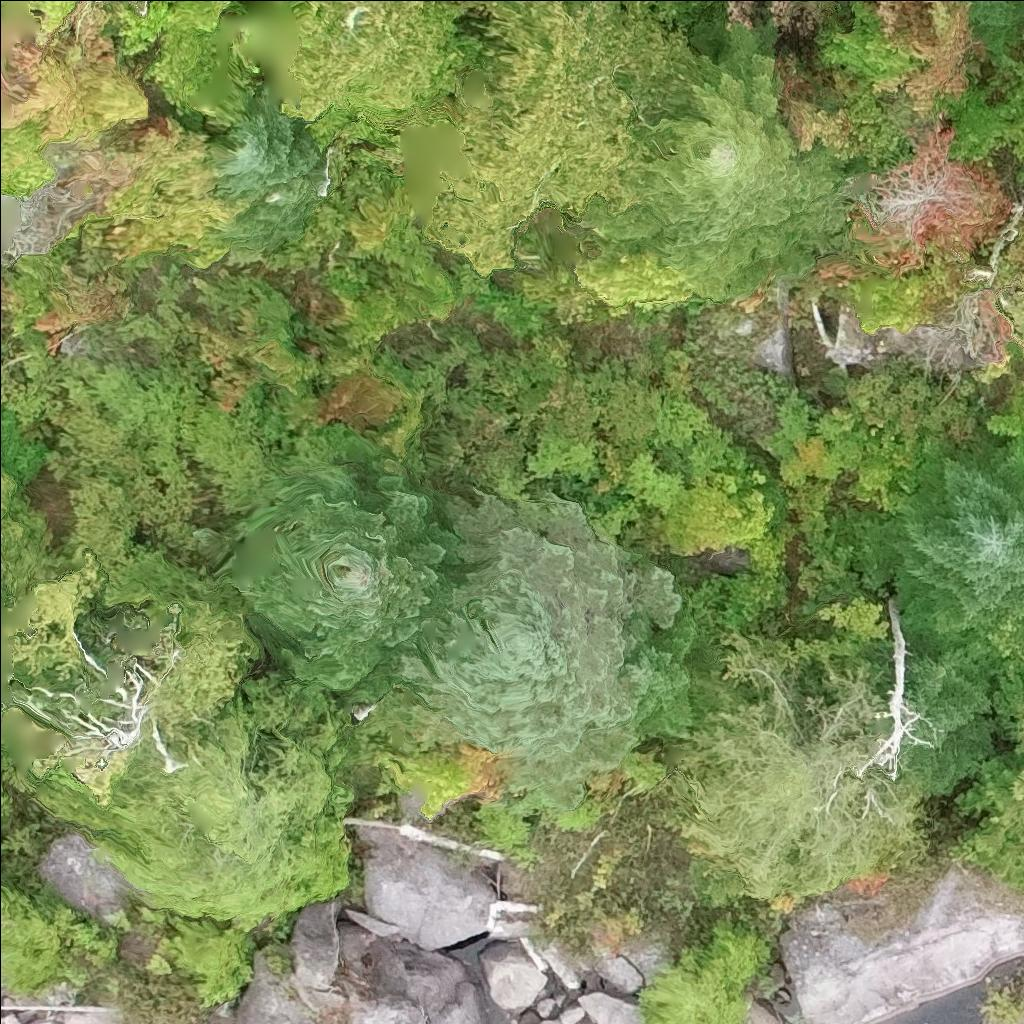crown: (398, 492, 688, 811), (576, 22, 844, 302), (683, 636, 927, 896), (247, 468, 457, 690), (858, 434, 1023, 687), (949, 616, 1023, 888), (814, 0, 976, 119), (902, 654, 999, 796), (857, 597, 931, 780), (795, 595, 889, 664), (968, 0, 1023, 59), (999, 228, 1023, 343), (771, 0, 841, 25), (727, 0, 762, 32)
